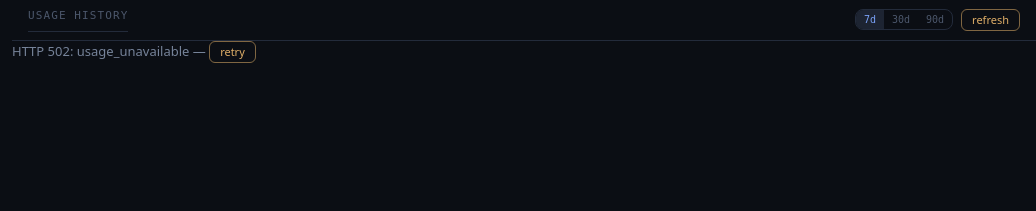
Test: UsageSection › surfaces api errors with a retry button that refetches
This screenshot has width=1036, height=211.
Check: the text "HTTP 502: usage_unavailable — retry" is shown, box 12,40 -> 256,63
Click the button "retry" at (232, 52), box 209,40 -> 256,63
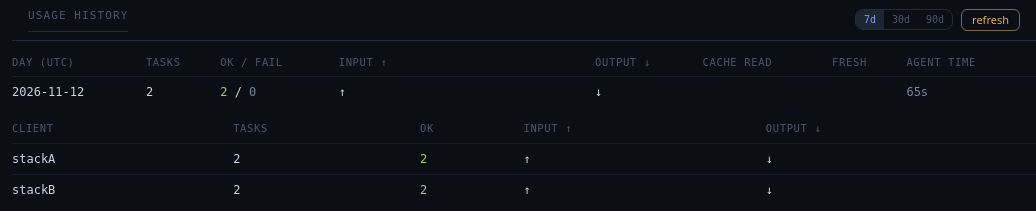
Check: the text "HTTP 502" is gone
